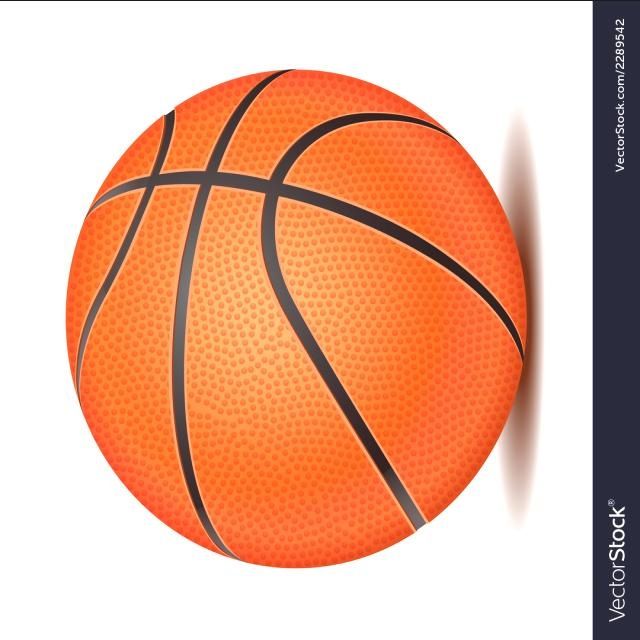agrume: (90, 0, 530, 587)
